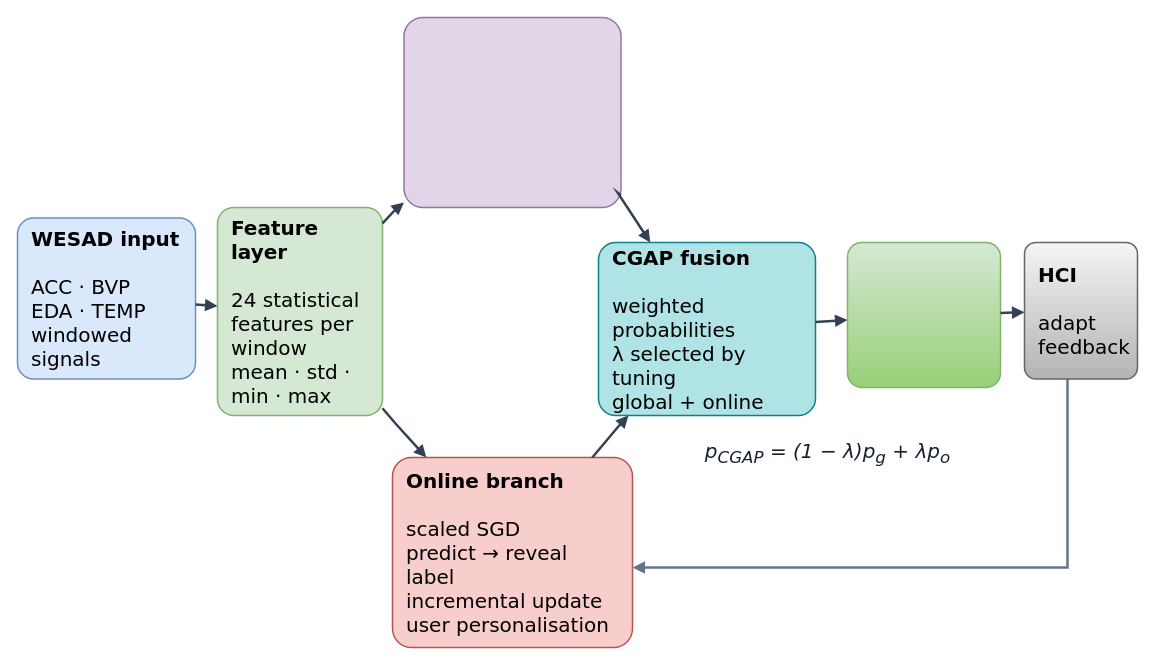
Some shapes in this 1156 by 666 pixel diagram are drawn without their labels. The box of each missing label's shape, as (x1, y1, x2, y2) in pixels:
Global branch Extra-Trees 80 trees cross-subject patterns class probabilities: (403, 16, 621, 208)
State output baseline stress amusement: (846, 241, 1001, 388)
